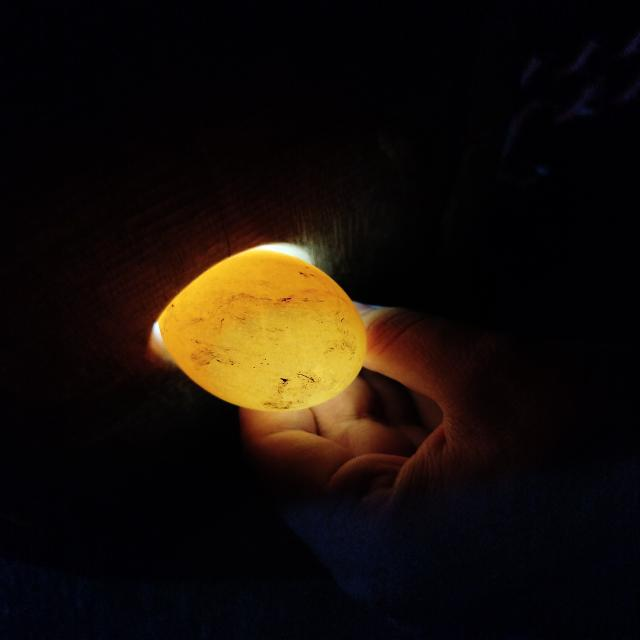Camara de Ar: (217, 311, 364, 410)
